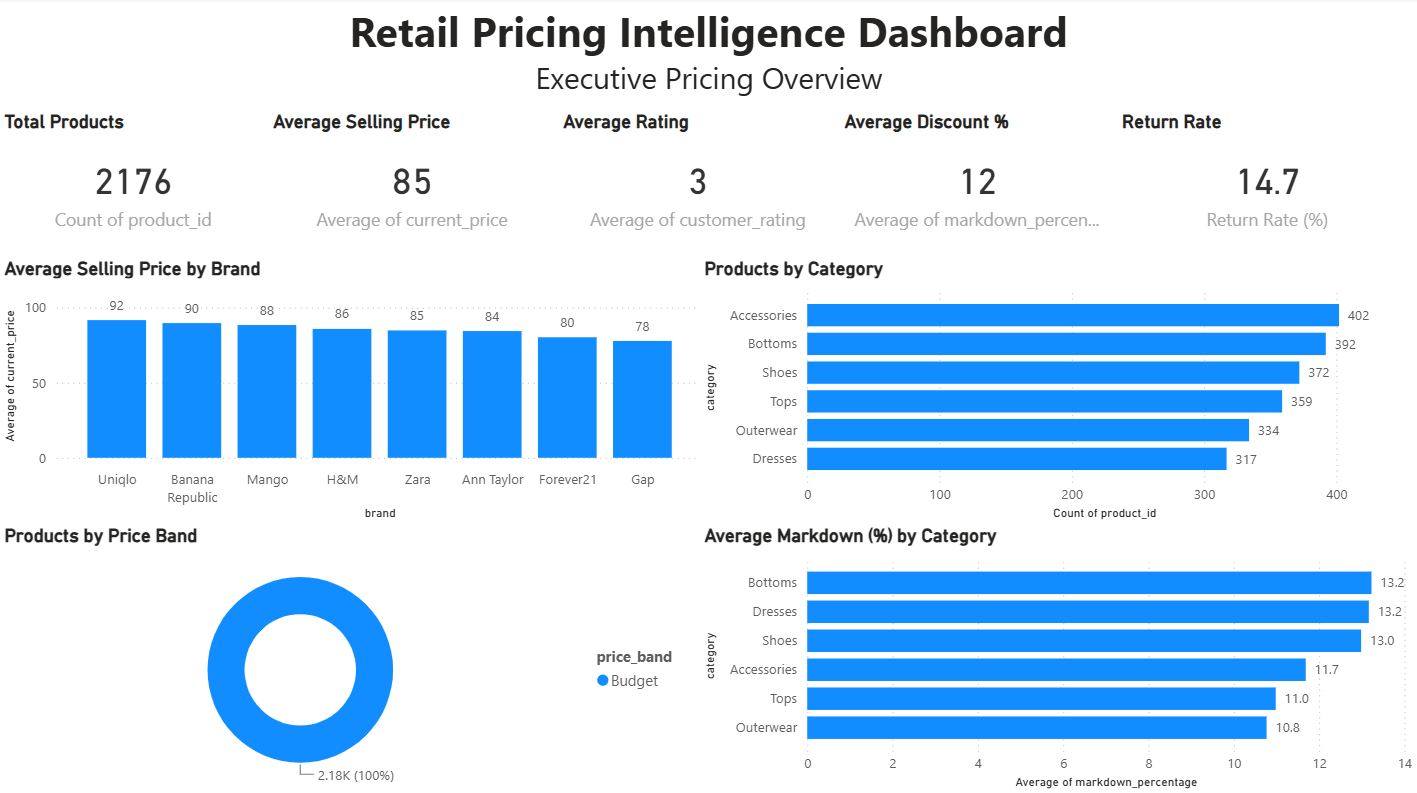

This screenshot's page, from the dashboard's own definition file:
{"tool":"powerbi","page":{"name":"Page 1","canvas":[1280,720],"ordinal":0},"visuals":[{"type":"textbox","box":[0,0,1280,102.5],"z":0},{"type":"clusteredColumnChart","title":"Average Selling Price by Brand","fields":{"Category":["retail_pricing_cleaned.brand"],"Y":["Avg(retail_pricing_cleaned.current_price)"]},"box":[0,234,640.1,242.1],"z":1000},{"type":"clusteredBarChart","title":"Products by Category","fields":{"Category":["retail_pricing_cleaned.category"],"Y":["Count(retail_pricing_cleaned.product_id)"]},"box":[630.7,234,649.6,242.1],"z":2000},{"type":"donutChart","title":"Products by Price Band","fields":{"Category":["retail_pricing_cleaned.price_band"],"Y":["Count(retail_pricing_cleaned.product_id)"]},"box":[0,476.1,630.7,243.4],"z":3000},{"type":"clusteredBarChart","title":"Average Markdown (%) by Category","fields":{"Category":["retail_pricing_cleaned.category"],"Y":["Avg(retail_pricing_cleaned.markdown_percentage)"]},"box":[630.7,476.1,649.6,243.4],"z":4000},{"type":"advanceCardE03760C5AB684758B56AA29F9E6C257B","title":"Total Products","fields":{"mainMeasure":["Count(retail_pricing_cleaned.product_id)"]},"box":[0,102.5,242.5,131.2],"z":5000},{"type":"advanceCardE03760C5AB684758B56AA29F9E6C257B","title":"Average Selling Price","fields":{"mainMeasure":["Avg(retail_pricing_cleaned.current_price)"]},"box":[242.5,102.5,261.2,131.2],"z":6000},{"type":"advanceCardE03760C5AB684758B56AA29F9E6C257B","title":"Average Discount %","fields":{"mainMeasure":["Avg(retail_pricing_cleaned.markdown_percentage)"]},"box":[757.5,102.5,250,131.2],"z":7000},{"type":"advanceCardE03760C5AB684758B56AA29F9E6C257B","title":"Average Rating","fields":{"mainMeasure":["Avg(retail_pricing_cleaned.customer_rating)"]},"box":[503.8,102.5,253.8,131.2],"z":8000},{"type":"advanceCardE03760C5AB684758B56AA29F9E6C257B","title":"Return Rate","fields":{"mainMeasure":["retail_pricing_cleaned.Return Rate (%)"]},"box":[1007.5,102.5,272.5,131.2],"z":9000}]}

Visuals, with their boxes in screenshot pixels (x1, y1, x2, y2), scaled from the page's 1280x720 canvas onto the 1417x793 screenshot:
textbox: (left=0, top=0, right=1416, bottom=113)
"Average Selling Price by Brand" clusteredColumnChart: (left=0, top=258, right=709, bottom=524)
"Products by Category" clusteredBarChart: (left=698, top=258, right=1416, bottom=524)
"Products by Price Band" donutChart: (left=0, top=524, right=698, bottom=792)
"Average Markdown (%) by Category" clusteredBarChart: (left=698, top=524, right=1416, bottom=792)
"Total Products" advanceCardE03760C5AB684758B56AA29F9E6C257B: (left=0, top=113, right=268, bottom=257)
"Average Selling Price" advanceCardE03760C5AB684758B56AA29F9E6C257B: (left=268, top=113, right=558, bottom=257)
"Average Discount %" advanceCardE03760C5AB684758B56AA29F9E6C257B: (left=839, top=113, right=1115, bottom=257)
"Average Rating" advanceCardE03760C5AB684758B56AA29F9E6C257B: (left=558, top=113, right=839, bottom=257)
"Return Rate" advanceCardE03760C5AB684758B56AA29F9E6C257B: (left=1115, top=113, right=1416, bottom=257)
